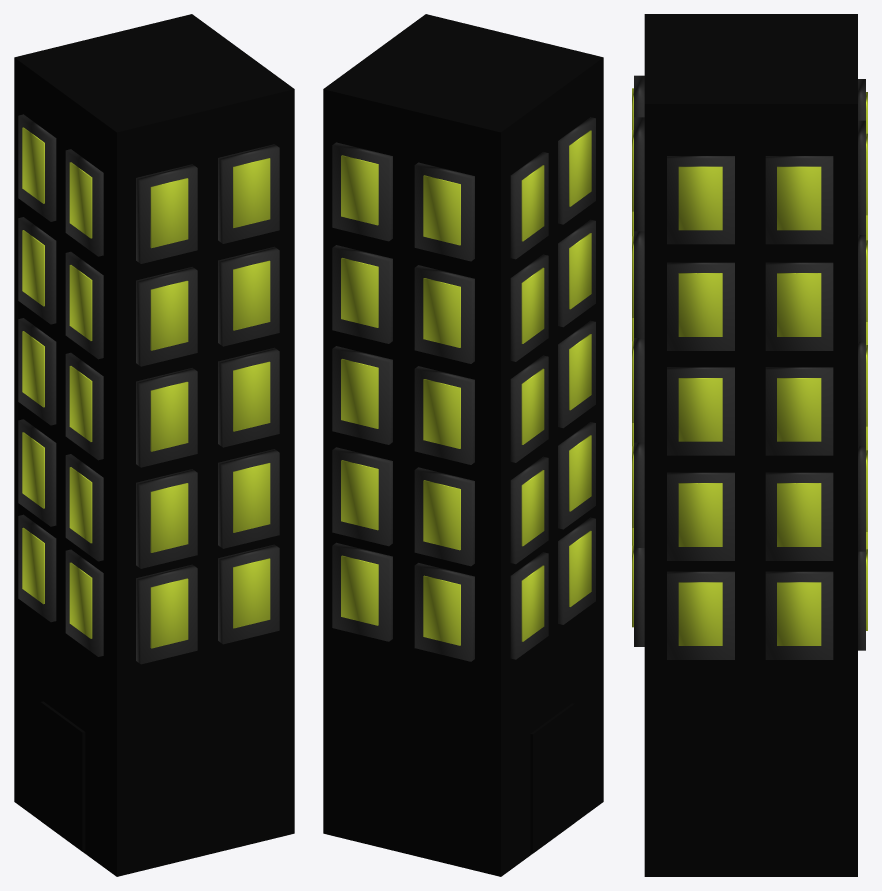
The model's file is Building_001.fbx.
3 views of the same model, side by side, from view 1: azimuth 30°, elevation 25°; view 2: azimuth 150°, elevation 25°; view 3: azimuth 270°, elevation 25° (orthographic). The views are drawn at different scales.
Parts seen in each view (by area): view 1: Cube; view 2: Cube; view 3: Cube.
Part boxes in pixels (x1,y1,x2,y2): Cube: (14,14,294,876); Cube: (323,14,603,876); Cube: (632,14,867,876).
Size of the model in its own units: 4313 by 16000 by 4422.
